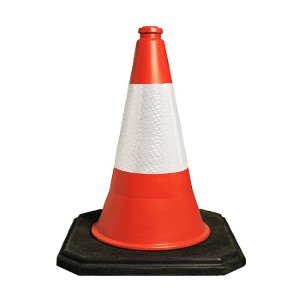traffic cone: (56, 25, 246, 276)
